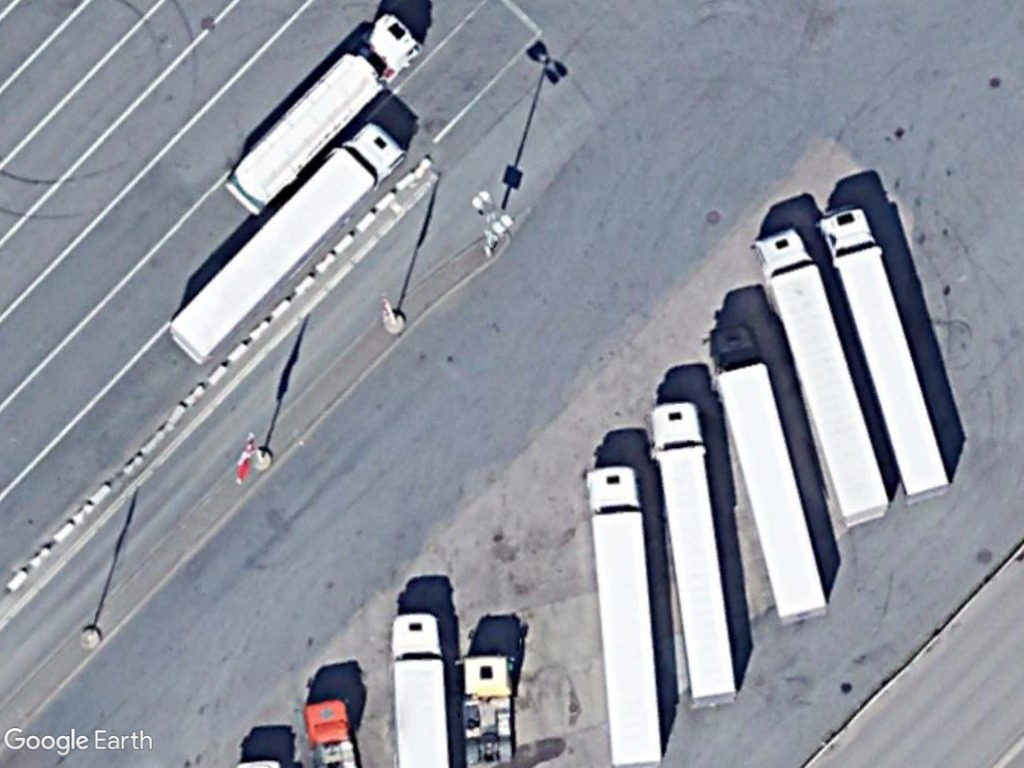longvehicle: (163, 114, 418, 368), (750, 222, 900, 537), (209, 8, 428, 220), (814, 199, 962, 510), (648, 394, 757, 717), (576, 459, 672, 768)
truck: (387, 603, 466, 768)
